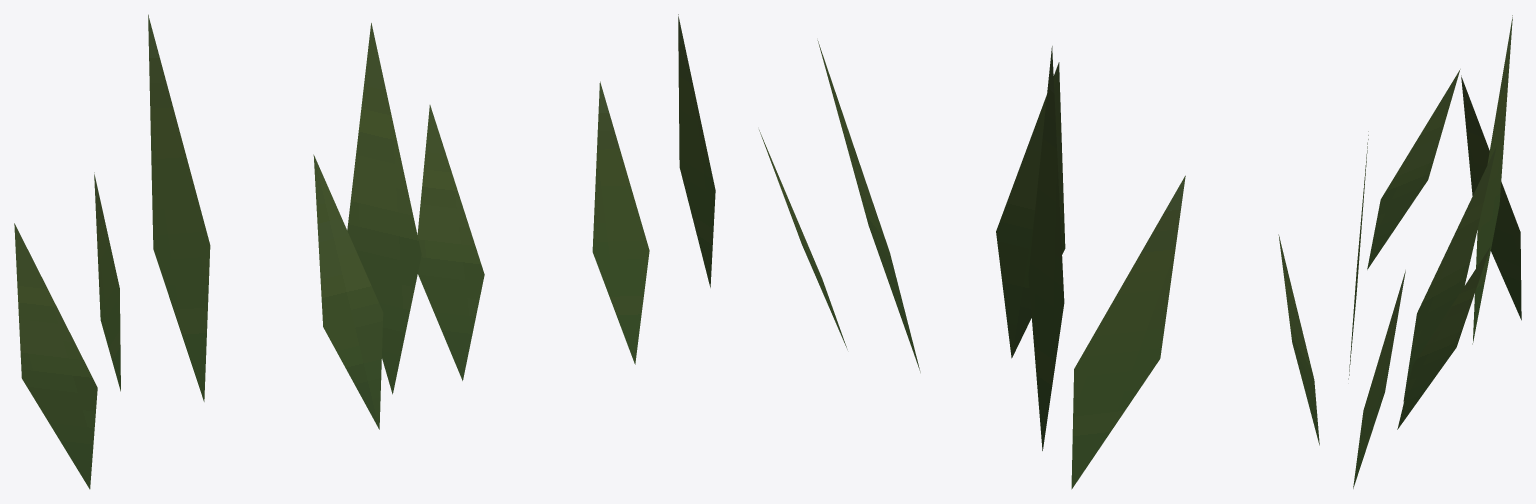
File: plants_me_main_grass33.gltf
3 views of the same model, side by side, from view 1: azimuth 30°, elevation 25°; view 2: azimuth 150°, elevation 25°; view 3: azimuth 270°, elevation 25° (orthographic). The views are drawn at different scales.
Visible parts, largest first — view 1: um_plants_me_main_grass33_model_plants_me_main_grass33_model; view 2: um_plants_me_main_grass33_model_plants_me_main_grass33_model; view 3: um_plants_me_main_grass33_model_plants_me_main_grass33_model.
Boxes of the visible parts, box(x1,y1,x2,y2) form: um_plants_me_main_grass33_model_plants_me_main_grass33_model: box(14, 14, 649, 489); um_plants_me_main_grass33_model_plants_me_main_grass33_model: box(678, 14, 1319, 489); um_plants_me_main_grass33_model_plants_me_main_grass33_model: box(1348, 15, 1521, 488).
Size of the model in its own units: 0.5503 by 0.3383 by 0.1672.
Materials: 1 (1 with a texture image).
